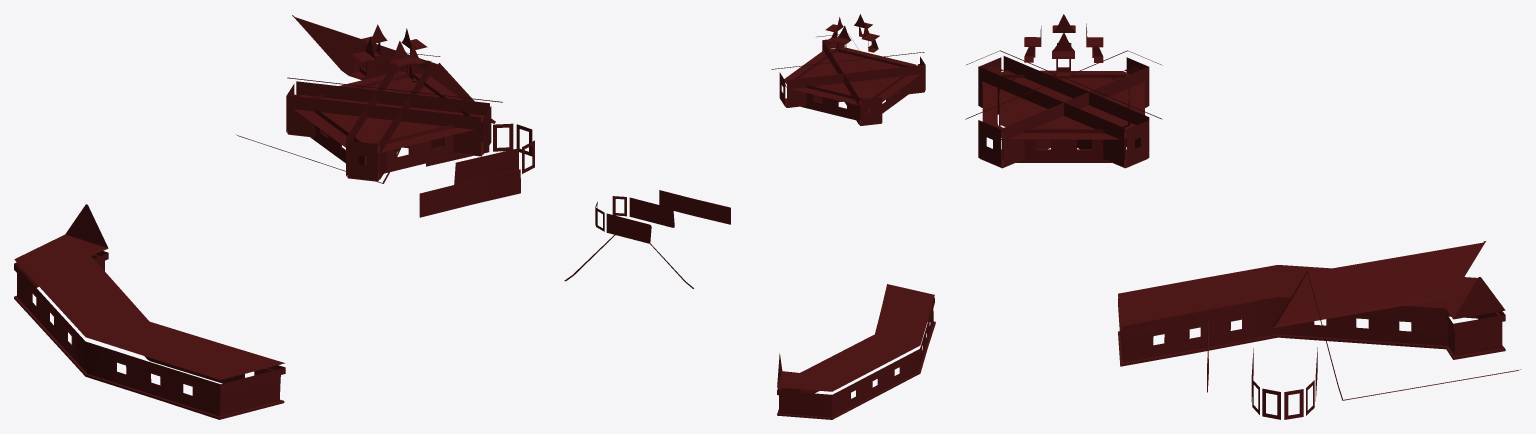
File: FairyTale11.gltf
The picture shows the model from 3 angles, left to right: view 1: azimuth 30°, elevation 25°; view 2: azimuth 150°, elevation 25°; view 3: azimuth 270°, elevation 25°; orthographic projection. The views are drawn at different scales.
Parts seen in each view (by area): view 1: CastleSM_WoodDark; view 2: CastleSM_WoodDark; view 3: CastleSM_WoodDark.
Part boxes in pixels (x1,y1,x2,y2): CastleSM_WoodDark: (14,15,534,419); CastleSM_WoodDark: (564,14,935,419); CastleSM_WoodDark: (965,14,1520,419).
Size of the model in its own units: 36.9 by 29.16 by 38.54.
